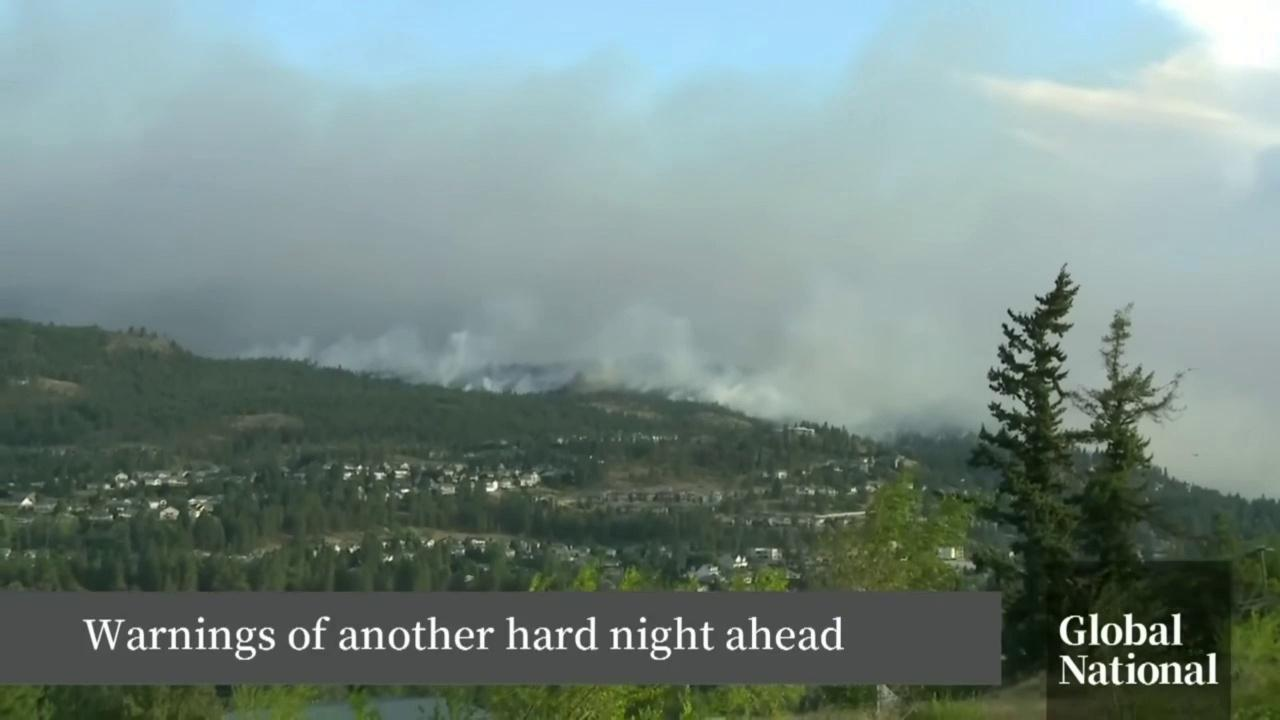smoke: (0, 37, 1280, 508)
